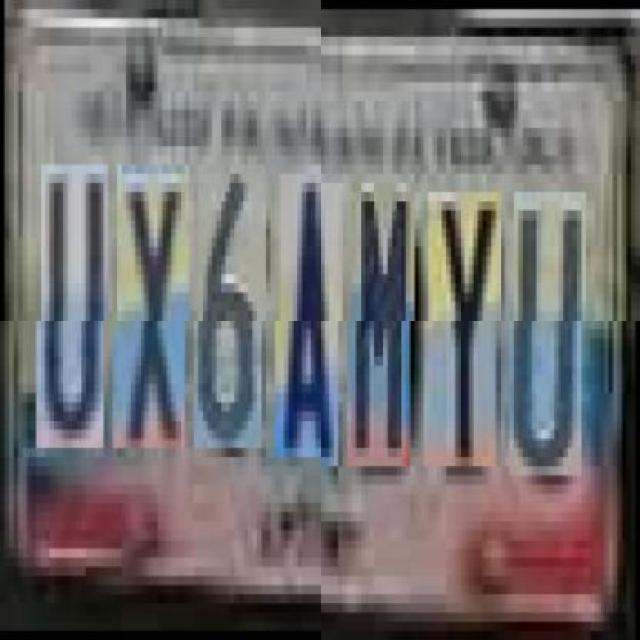6: (199, 173, 266, 458)
a: (280, 182, 342, 467)
m: (352, 182, 414, 467)
u: (514, 192, 586, 476), (41, 173, 108, 458)
x: (117, 173, 189, 458)
y: (428, 191, 500, 467)
